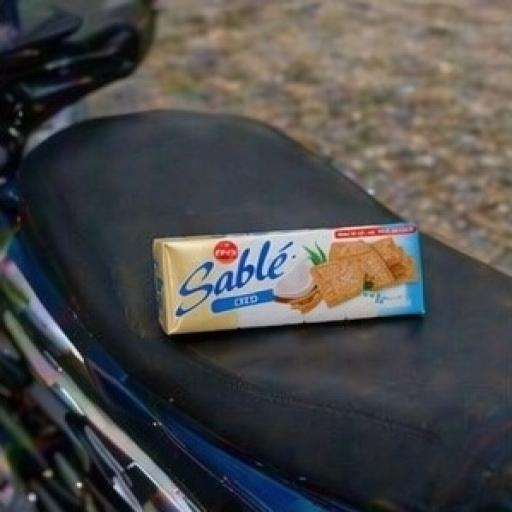sable: (95, 188, 503, 398)
